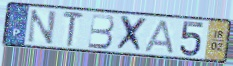5: (177, 20, 206, 58)
A: (143, 19, 175, 55)
B: (87, 13, 117, 50)
N: (25, 9, 58, 46)
T: (62, 10, 86, 48)
X: (114, 14, 150, 54)
